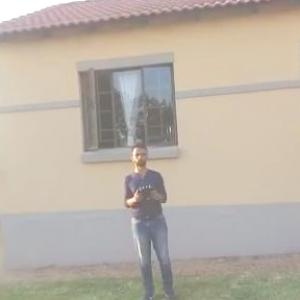follow: (120, 137, 183, 299)
